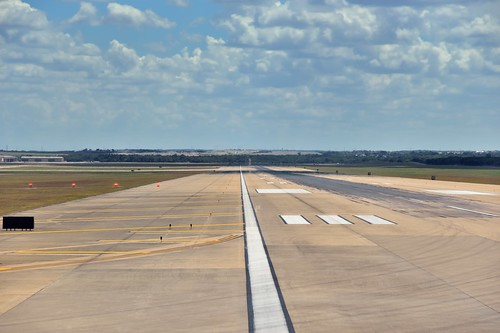sky: (1, 1, 500, 145)
